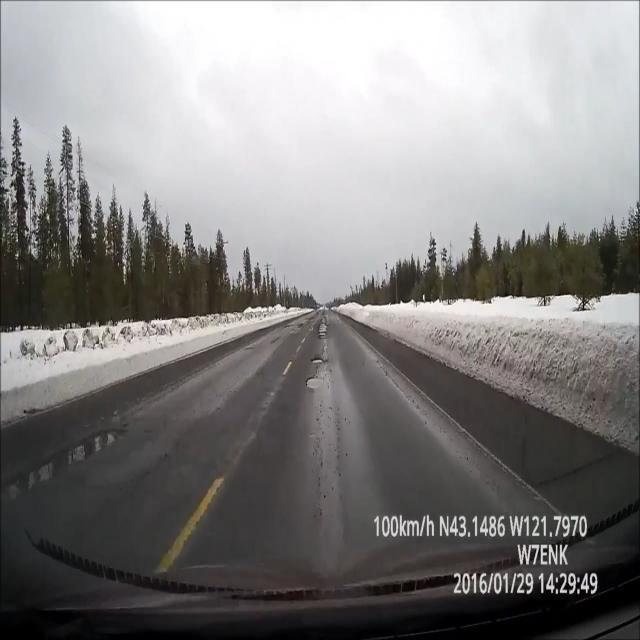Buraco: (0, 425, 131, 504), (303, 374, 328, 391), (316, 314, 330, 341), (308, 356, 329, 366)
